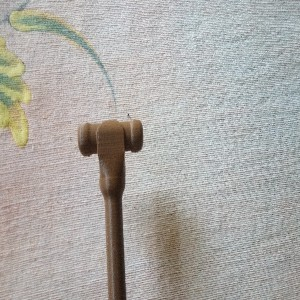palu: (78, 118, 144, 300)
